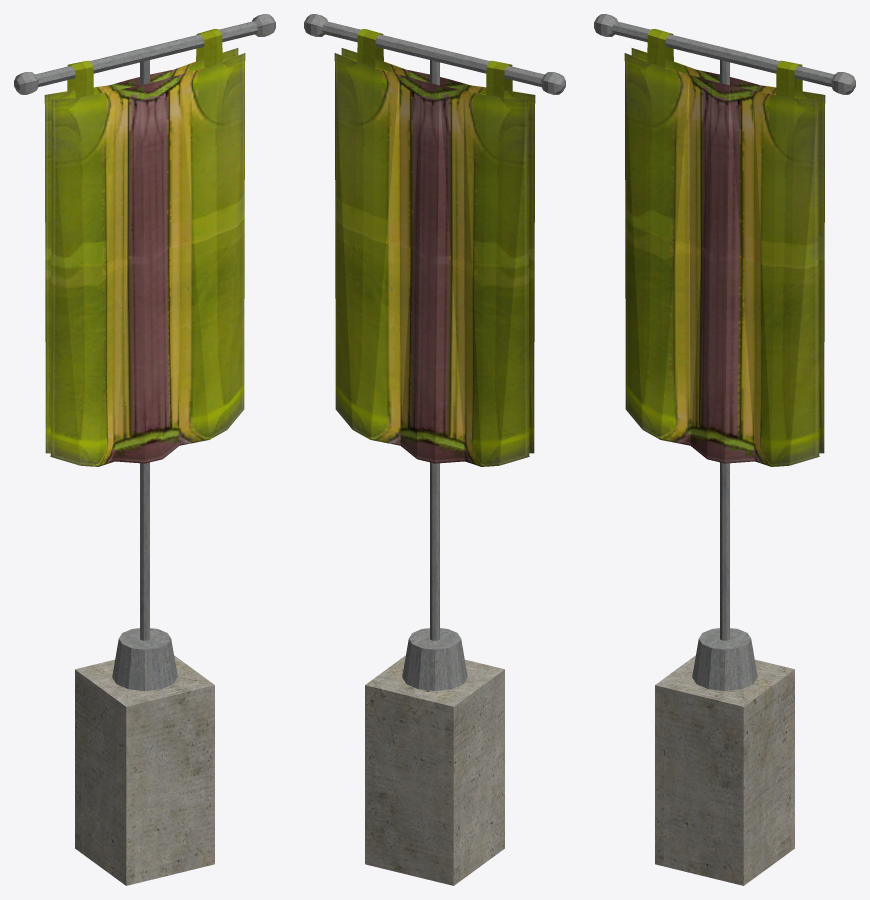
File: thm_all_banner_generic_s02_l0.fbx
3 renders of one model, left to right at view 1: azimuth 30°, elevation 25°; view 2: azimuth 150°, elevation 25°; view 3: azimuth 330°, elevation 25°, orthographic.
Parts seen in each view (by area): view 1: mesh_node; view 2: mesh_node; view 3: mesh_node.
Part boxes in pixels (x1,y1,x2,y2): mesh_node: (14, 14, 275, 885); mesh_node: (304, 14, 565, 885); mesh_node: (594, 14, 855, 885).
Bounding box in the file's own units: 2.19 × 6.56 × 0.75.
